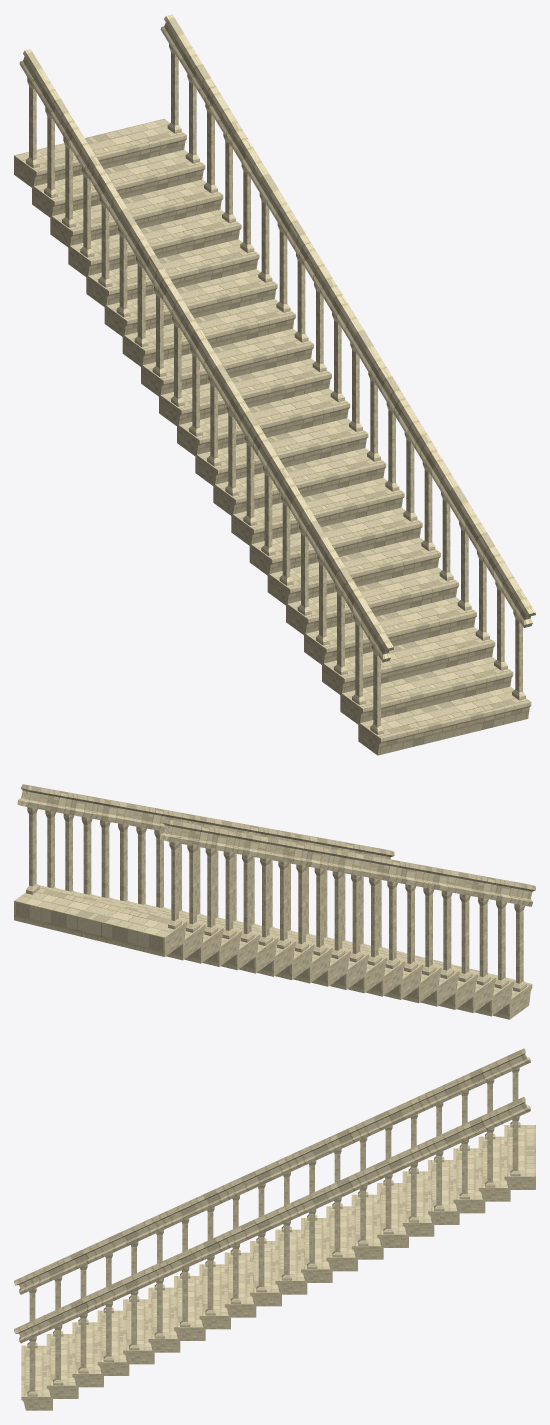
Rendered from Stair_2.gltf.
3 views of the same model, one above another, from view 1: azimuth 30°, elevation 25°; view 2: azimuth 150°, elevation 25°; view 3: azimuth 270°, elevation 25° (orthographic). The views are drawn at different scales.
Visible parts, largest first — view 1: Cube.005; view 2: Cube.005; view 3: Cube.005.
Part boxes in pixels (<box>): Cube.005: <box>14,14,535,755</box>; Cube.005: <box>14,784,535,1019</box>; Cube.005: <box>14,1048,535,1410</box>.
Bounding box in the file's own units: 1.4 × 3.92 × 5.95.
Materials: 1 (1 with a texture image).
